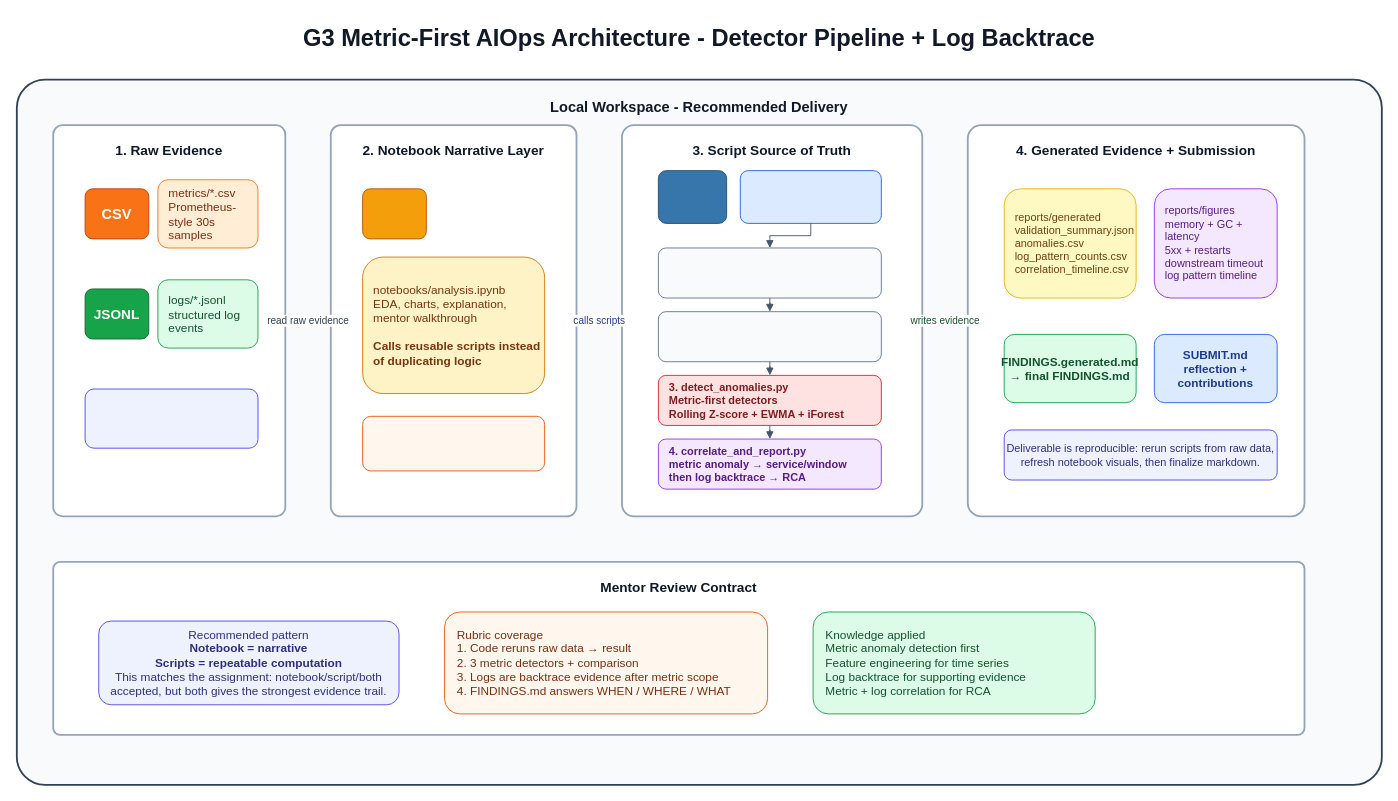
The diagram is 1398 pixels wide and 801 high, and some of its shapes have lost their labels. The shapes that lost their labels are listed below. From the top down, each one's centre as x and y in pixels, then its label:
At (394,213): "ipynb".
At (692,196): "Python".
At (810,196): "scripts/run_pipeline.py one command: make analyze".
At (769,272): "1. validate_data.py schema, timestamp continuity, JSONL parse".
At (769,336): "2. build_features.py memory ratio, GC trend, rolling latency, log windows".
At (171,418): "Rubric WHEN / WHERE / WHAT".
At (453,443): "Purpose: explain decisions, inspect plots, and show evidence interactively.".
